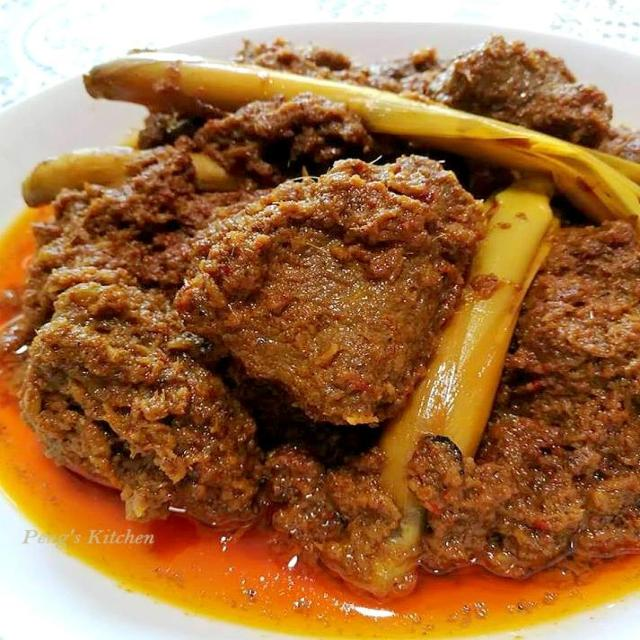Rendang: (22, 45, 640, 612)
